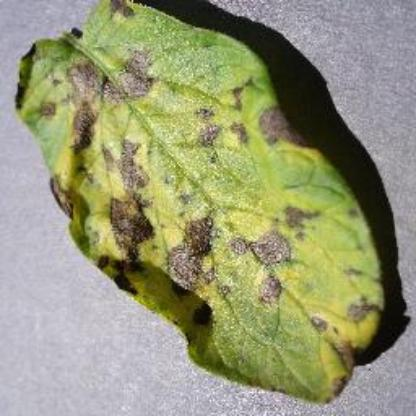Early-Blight: (11, 3, 393, 404)
